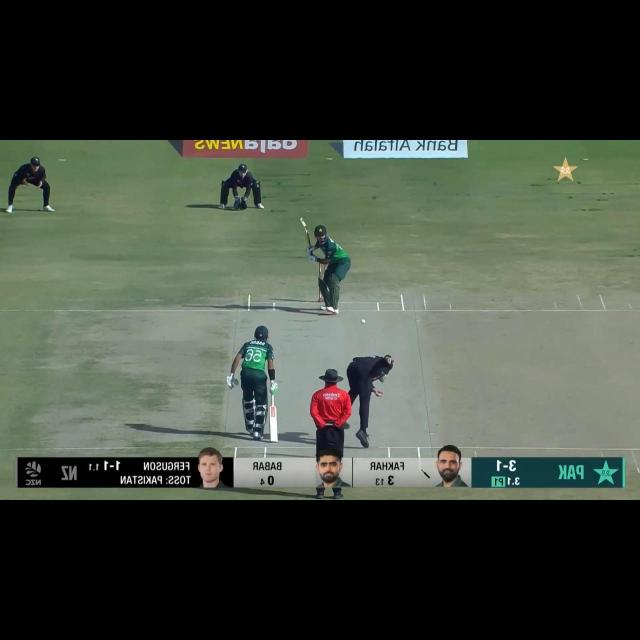bat: (297, 216, 312, 249), (268, 407, 280, 442)
toe: (298, 215, 305, 224), (269, 437, 278, 442)
